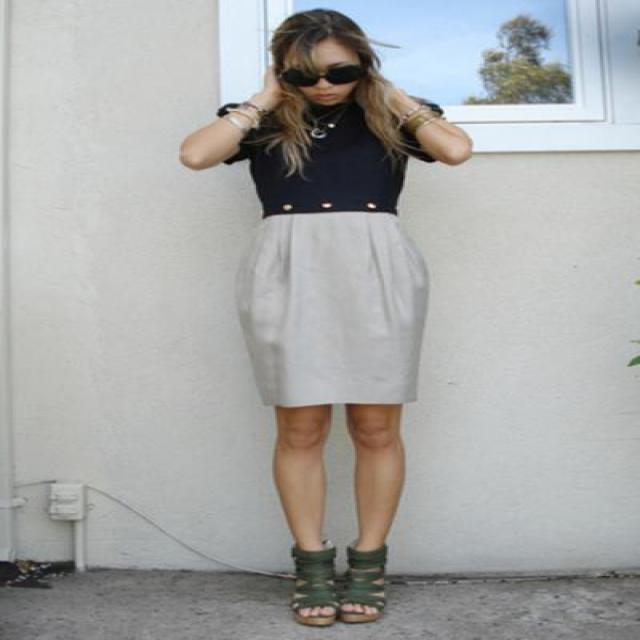shirt: (224, 90, 440, 216)
shoe: (288, 543, 403, 626)
skirt: (221, 211, 432, 414)
sunglass: (275, 51, 371, 94)
